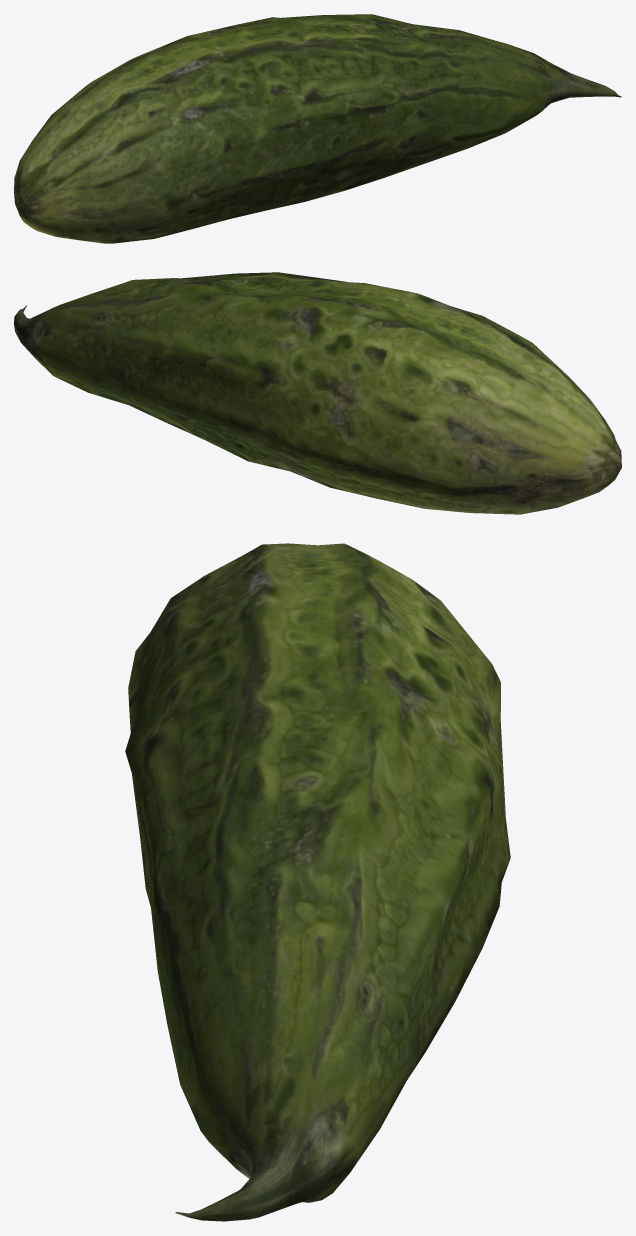
Rendered from Bitter Gourd.fbx.
3 views of the same model, one above another, from view 1: azimuth 30°, elevation 25°; view 2: azimuth 150°, elevation 25°; view 3: azimuth 270°, elevation 25° (orthographic). The views are drawn at different scales.
Parts seen in each view (by area): view 1: BitterGourd; view 2: BitterGourd; view 3: BitterGourd.
Part boxes in pixels (box(x1,y1,x2,y2)): BitterGourd: box(14, 14, 621, 243); BitterGourd: box(14, 272, 621, 514); BitterGourd: box(125, 543, 510, 1221).
Size of the model in its own units: 11.34 by 3.21 by 3.27.
